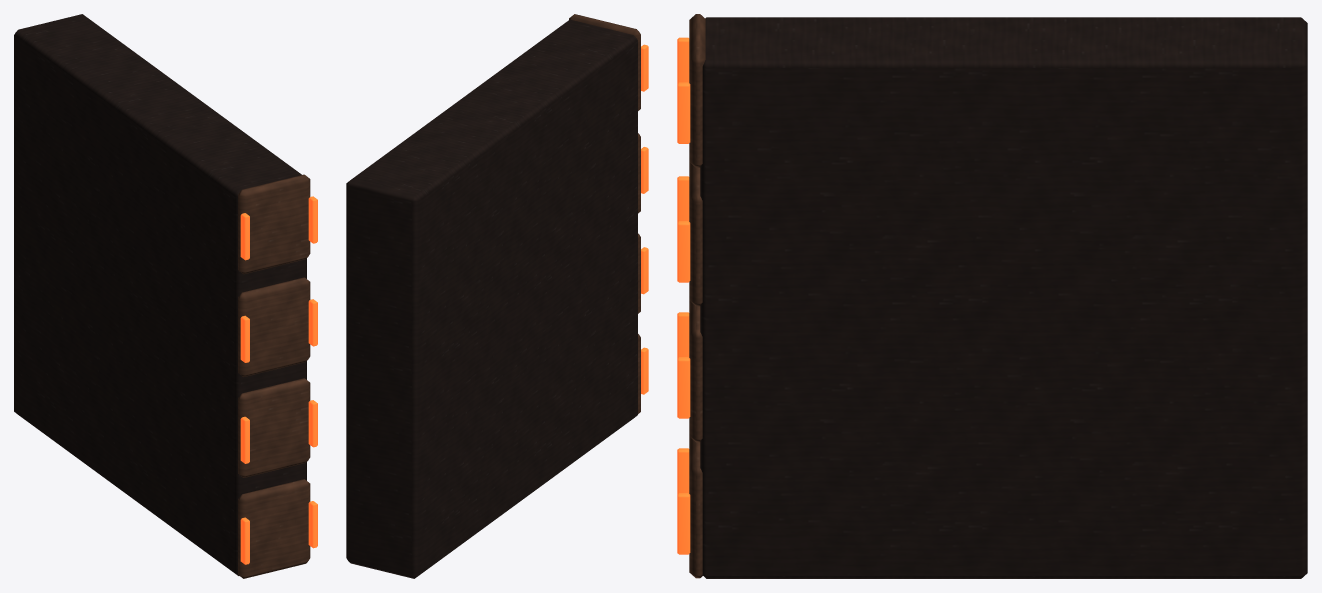
Rendered from shaft_wall.glb.
The picture shows the model from 3 angles, left to right: view 1: azimuth 30°, elevation 25°; view 2: azimuth 150°, elevation 25°; view 3: azimuth 270°, elevation 25°; orthographic projection. The views are drawn at different scales.
Visible parts, largest first — view 1: shaft_wall - Heat-treated steel, shaft_wall - Burnished nickel, shaft_wall - Firebrick indicator; view 2: shaft_wall - Heat-treated steel, shaft_wall - Firebrick indicator, shaft_wall - Burnished nickel; view 3: shaft_wall - Heat-treated steel, shaft_wall - Burnished nickel, shaft_wall - Firebrick indicator.
Part boxes in pixels (x1,y1,x2,y2): shaft_wall - Heat-treated steel: (14, 14, 306, 575); shaft_wall - Burnished nickel: (238, 174, 310, 578); shaft_wall - Firebrick indicator: (240, 196, 317, 564); shaft_wall - Heat-treated steel: (346, 19, 637, 578); shaft_wall - Firebrick indicator: (641, 44, 648, 394); shaft_wall - Burnished nickel: (569, 14, 640, 413); shaft_wall - Heat-treated steel: (700, 17, 1307, 578); shaft_wall - Burnished nickel: (689, 14, 705, 578); shaft_wall - Firebrick indicator: (677, 37, 690, 554).
Size of the model in its own units: 0.803 by 4.04 by 4.41.
Materials: 3 (2 with a texture image).
